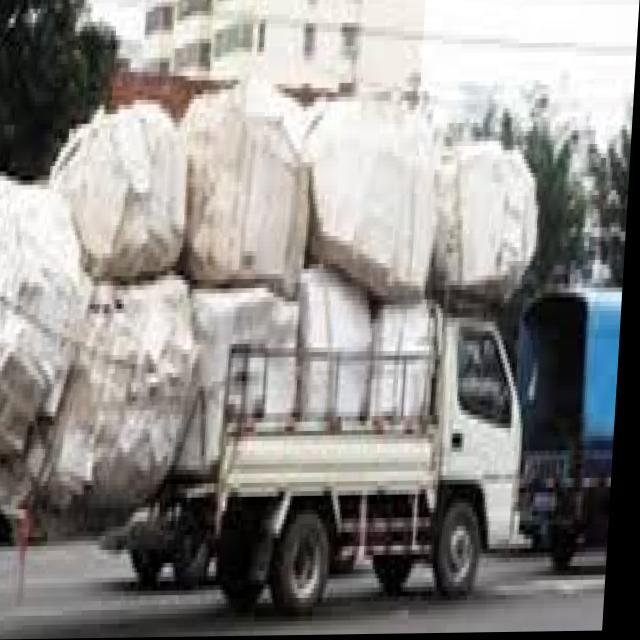uncovered: (0, 68, 553, 626)
